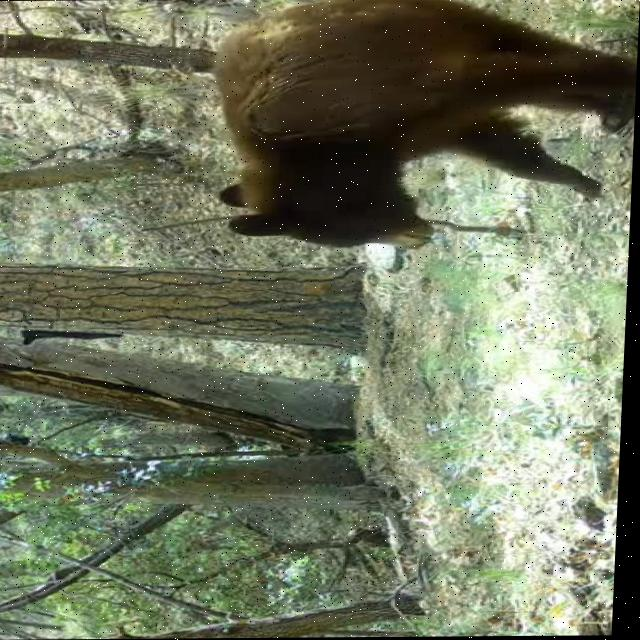bear face: (202, 0, 640, 253), (20, 328, 126, 344)
